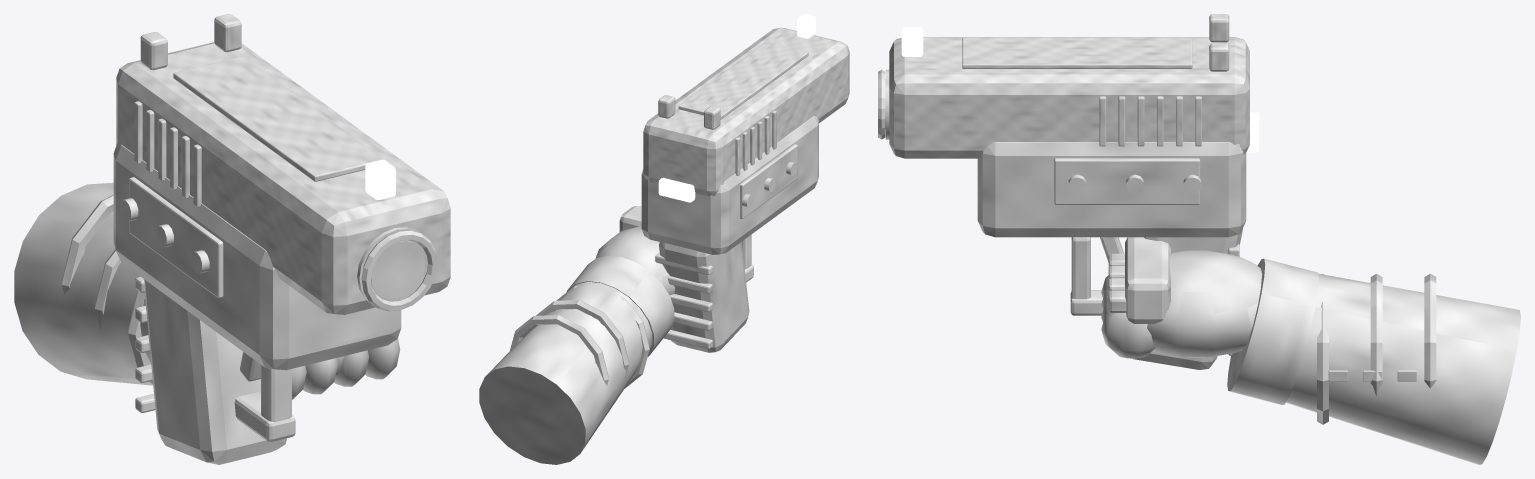
The model's file is pistol.glb.
3 renders of one model, left to right at view 1: azimuth 30°, elevation 25°; view 2: azimuth 150°, elevation 25°; view 3: azimuth 270°, elevation 25°, orthographic. The views are drawn at different scales.
Parts seen in each view (by area): view 1: weapon, slide; view 2: weapon, slide; view 3: weapon, slide.
Part boxes in pixels (x1,y1,x2,y2): weapon: (14,143,437,464); slide: (116,14,450,314); weapon: (479,116,818,464); slide: (643,14,849,196); weapon: (878,69,1520,464); slide: (889,14,1249,158).
Size of the model in its own units: 0.305 by 0.5687 by 0.8377.
7 materials, 7 textured.
